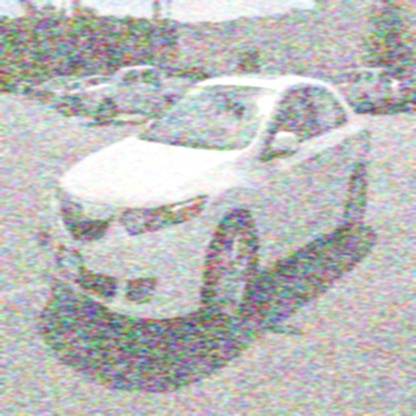Vehicle: (48, 73, 373, 327)
